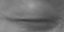LeftEyeFatigue: (1, 7, 62, 32)
